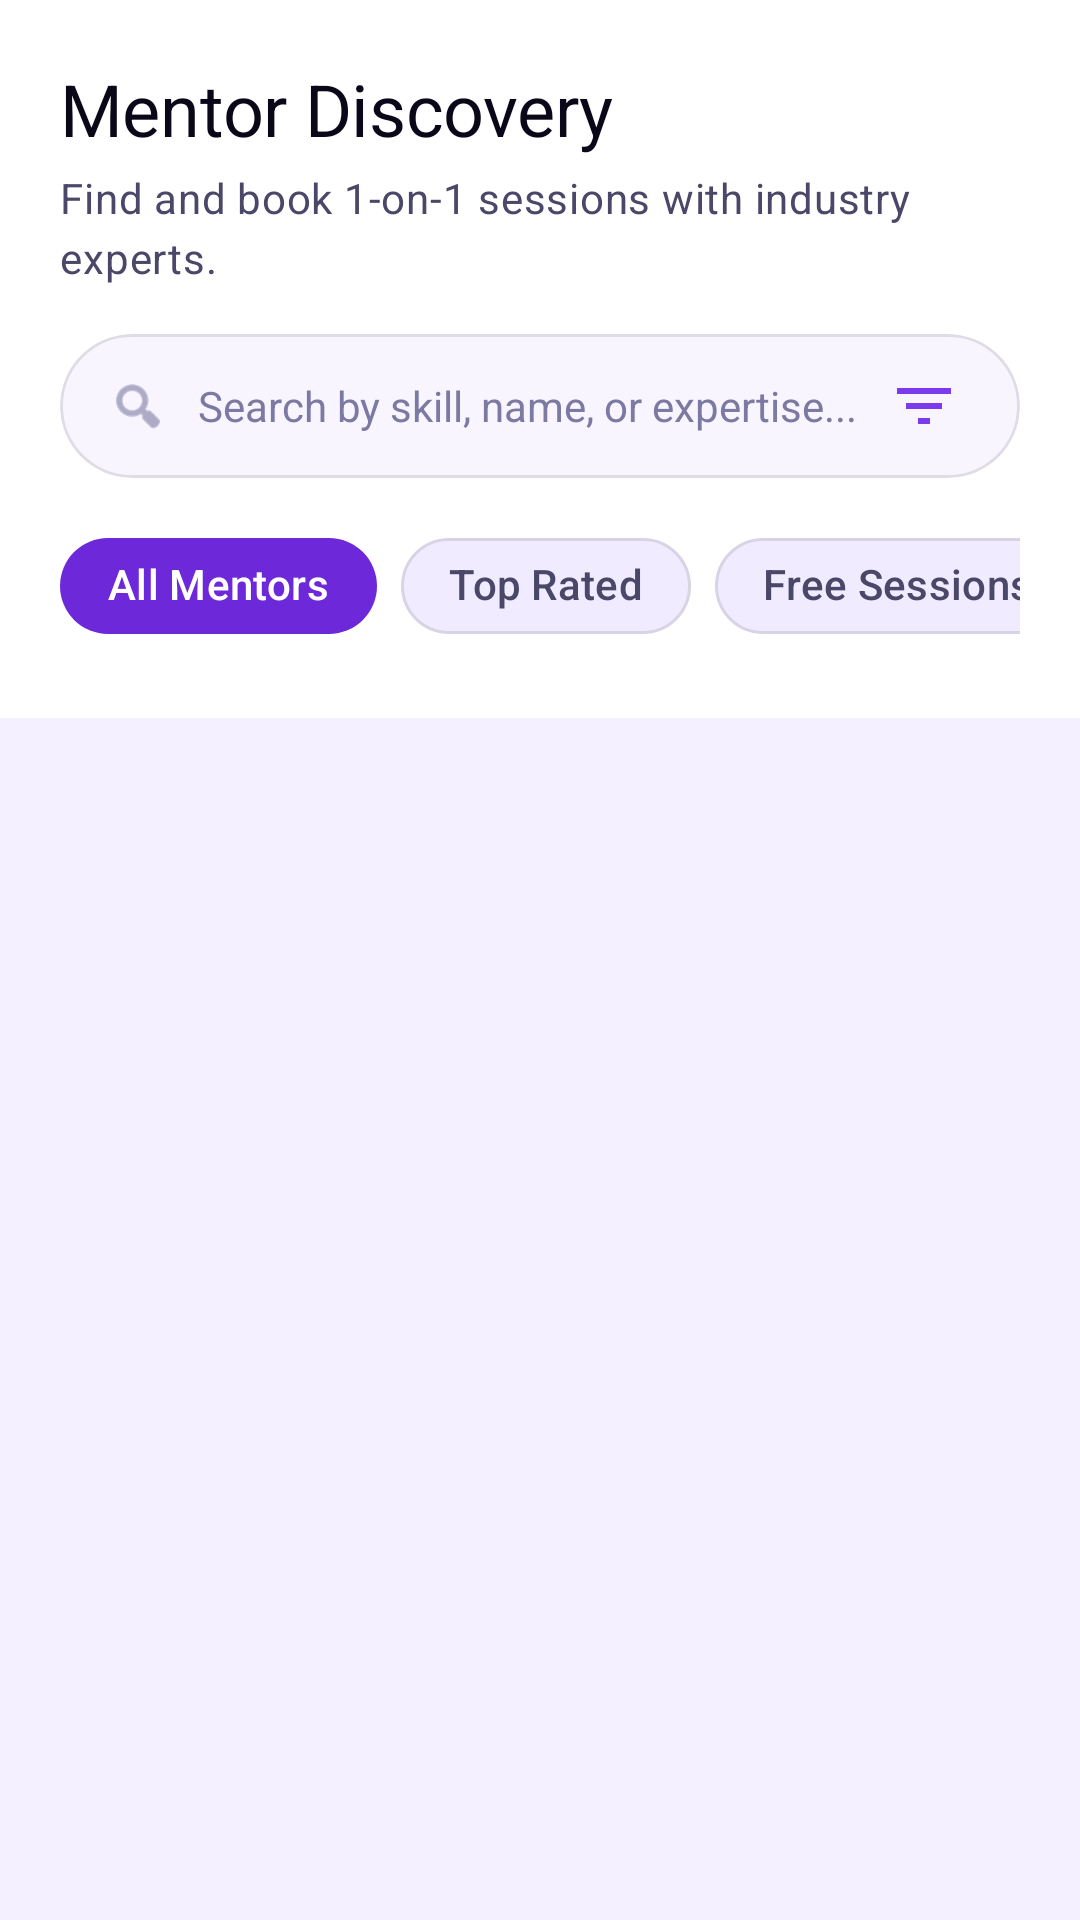

Icons on this 1080w x 1920h Android screen, each with its box as {"x1": x1, "y1": y1, "x2": x2, "y2": y2}:
Filter: {"x1": 897, "y1": 388, "x2": 951, "y2": 424}
